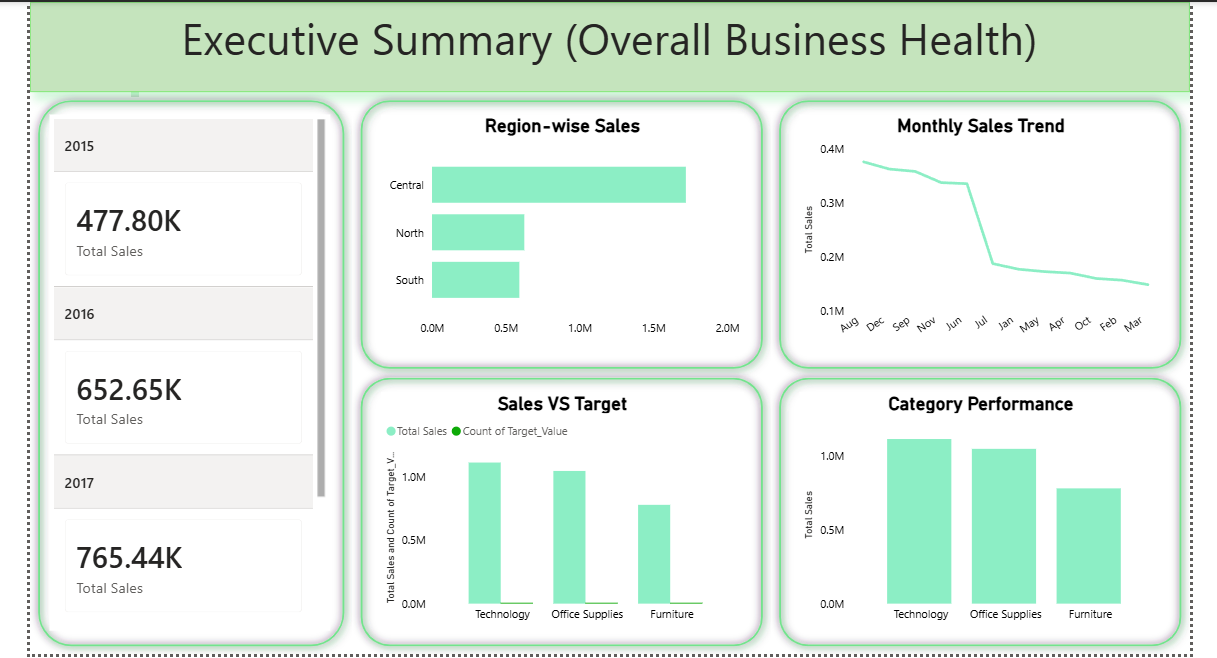

The page's visual inventory and layout, read from the dashboard file:
{"tool":"powerbi","page":{"name":"Executive summary","canvas":[1280,720],"ordinal":0},"visuals":[{"type":"shape","box":[0,0,1280.5,86.1],"z":0},{"type":"textbox","box":[0,0,1280.5,99.4],"z":1000},{"type":"shape","box":[818.3,99.4,462.2,314.7],"z":2000},{"type":"lineChart","title":"Monthly Sales Trend","fields":{"Category":["Date.Month"],"Y":["final_dataset.Total Sales"]},"box":[849.8,124.2,400.9,263.4],"z":3000},{"type":"shape","box":[356.1,99.4,462.2,314.7],"z":4000},{"type":"clusteredBarChart","title":"Region-wise Sales","fields":{"Y":["final_dataset.Total Sales"],"Category":["People.Region"]},"box":[387.6,124.2,400.9,263.4],"z":5000},{"type":"shape","box":[818.3,405.8,462.2,314.7],"z":6000},{"type":"clusteredColumnChart","title":"Category Performance","fields":{"Category":["final_dataset.Category"],"Y":["final_dataset.Total Sales"]},"box":[849.8,430.7,400.9,263.4],"z":7000},{"type":"shape","box":[0,99.4,356.1,621.2],"z":8000},{"type":"shape","box":[356.1,405.8,462.2,314.7],"z":9000},{"type":"clusteredColumnChart","title":"Sales VS Target","fields":{"Category":["final_dataset.Category"],"Y":["final_dataset.Total Sales","CountNonNull(Target.Target_Value)"]},"box":[387.6,430.7,400.9,263.4],"z":10000},{"type":"cardVisual","title":"Region-wise Sales","fields":{"Data":["final_dataset.Total Sales"],"Rows":["Target.Year"]},"box":[21.5,124.2,309.8,569.8],"z":11000}]}

Visuals, with their boxes on the page's 1280x720 design canvas (x1, y1, x2, y2). These are canvas units, not pixel positions in the 1217x658 screenshot, which may show the page scaled, cropped or inside an application window:
shape: rect(0, 0, 1280, 86)
textbox: rect(0, 0, 1280, 99)
shape: rect(818, 99, 1280, 414)
"Monthly Sales Trend" lineChart: rect(850, 124, 1251, 388)
shape: rect(356, 99, 818, 414)
"Region-wise Sales" clusteredBarChart: rect(388, 124, 788, 388)
shape: rect(818, 406, 1280, 720)
"Category Performance" clusteredColumnChart: rect(850, 431, 1251, 694)
shape: rect(0, 99, 356, 721)
shape: rect(356, 406, 818, 720)
"Sales VS Target" clusteredColumnChart: rect(388, 431, 788, 694)
"Region-wise Sales" cardVisual: rect(22, 124, 331, 694)
